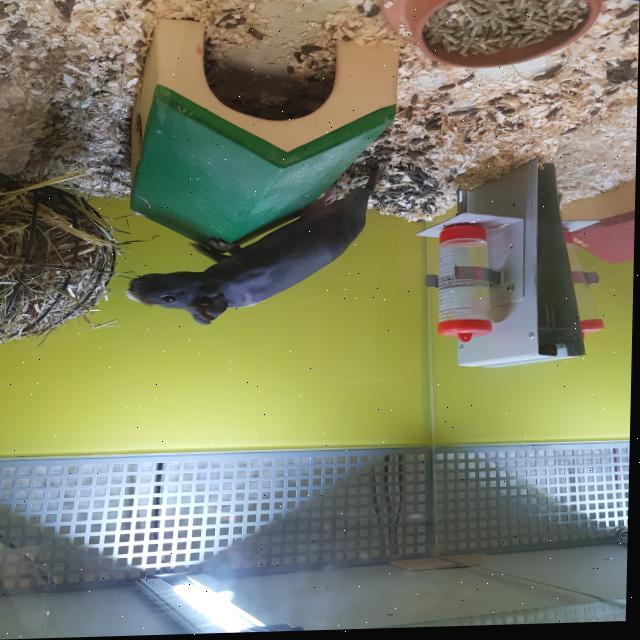guinea pig: (122, 164, 388, 331)
